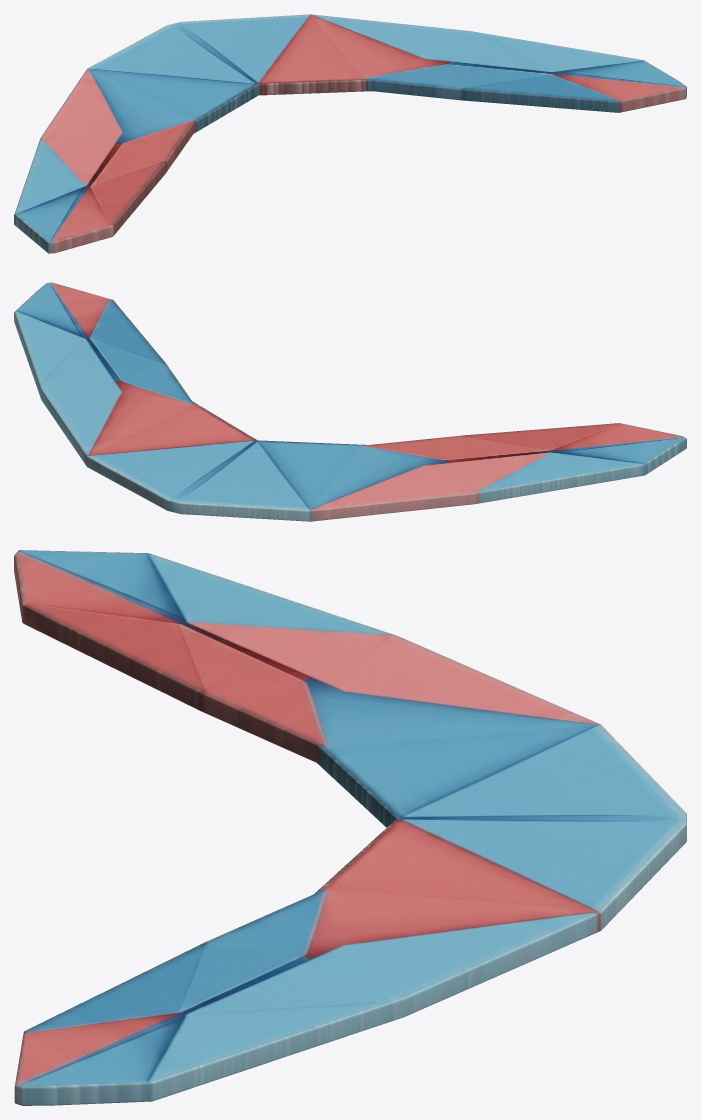
Rendered from Boomerang_35.fbx.
3 views of the same model, one above another, from view 1: azimuth 30°, elevation 25°; view 2: azimuth 150°, elevation 25°; view 3: azimuth 270°, elevation 25° (orthographic). The views are drawn at different scales.
Parts seen in each view (by area): view 1: Boomerang_35; view 2: Boomerang_35; view 3: Boomerang_35.
Part boxes in pixels (bbox=[...]): Boomerang_35: bbox=[14, 14, 686, 253]; Boomerang_35: bbox=[14, 282, 686, 521]; Boomerang_35: bbox=[14, 550, 686, 1105].
Bounding box in the file's own units: 201 × 3.4 × 106.
Materials: 1 (1 with a texture image).
